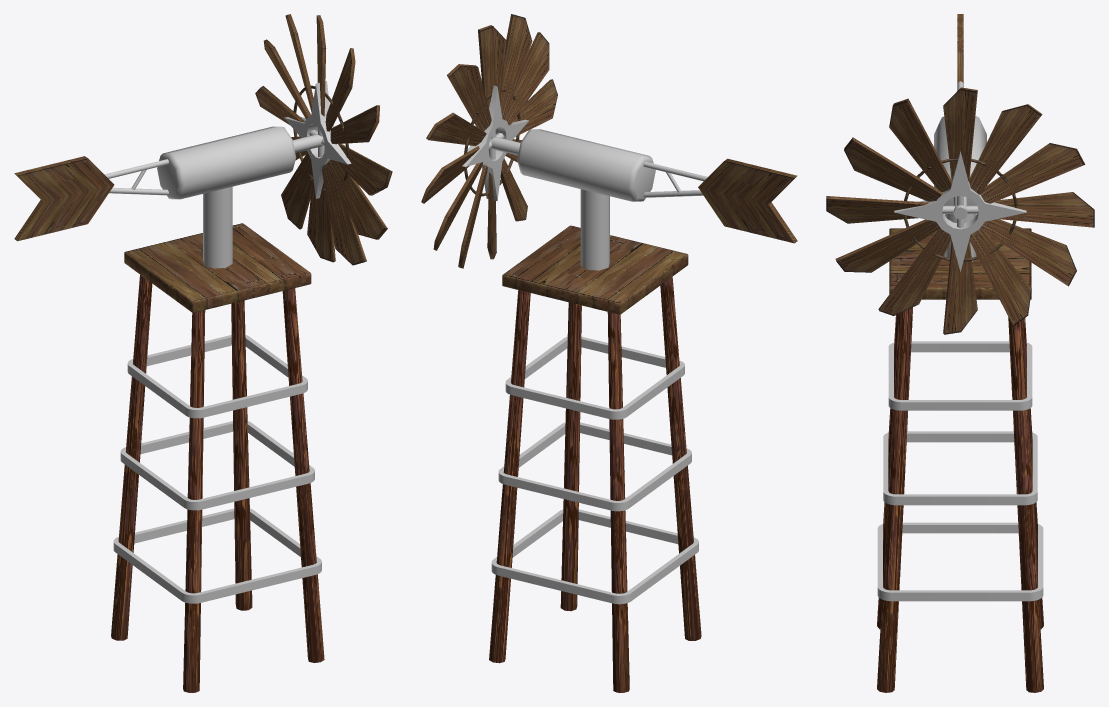
The model's file is windmill.fbx.
3 renders of one model, left to right at view 1: azimuth 30°, elevation 25°; view 2: azimuth 150°, elevation 25°; view 3: azimuth 270°, elevation 25°, orthographic. The views are drawn at different scales.
Visible parts, largest first — view 1: Cube, Cylinder, Cylinder_2_2, Cylinder_1_7, Cube_1, Cylinder_3, Cylinder_0, Sweep_2, Sweep_1, Sweep, Tube, Cube_1_8 (+10 smaller); view 2: Cube, Cylinder, Cylinder_3, Cylinder_0, Cube_1, Cylinder_2_2, Cylinder_1_7, Sweep_2, Sweep_1, Sweep, Tube, Cube_1_11 (+10 smaller); view 3: Cylinder_1_7, Cylinder_0, Sweep_2, Sweep_1, Sweep, Tube, Cube, Cube_1_2, Cube_1_4, Cube_1_1, Cube_1_5, Cube_1_3 (+12 smaller).
Boxes of the visible parts, bbox=[...] form: Cube: bbox=[124, 223, 311, 312]; Cylinder: bbox=[157, 126, 296, 268]; Cylinder_2_2: bbox=[183, 310, 205, 692]; Cylinder_1_7: bbox=[282, 288, 324, 662]; Cube_1: bbox=[14, 156, 114, 241]; Cylinder_3: bbox=[111, 275, 152, 640]; Cylinder_0: bbox=[231, 300, 252, 610]; Sweep_2: bbox=[113, 508, 321, 603]; Sweep_1: bbox=[120, 421, 314, 510]; Sweep: bbox=[127, 335, 307, 418]; Tube: bbox=[284, 81, 351, 198]; Cube_1_8: bbox=[327, 159, 387, 239]; Cube: bbox=[502, 225, 688, 314]; Cylinder: bbox=[517, 129, 655, 270]; Cylinder_3: bbox=[607, 312, 629, 692]; Cylinder_0: bbox=[489, 290, 530, 663]; Cube_1: bbox=[698, 158, 797, 243]; Cylinder_2_2: bbox=[660, 277, 701, 640]; Cylinder_1_7: bbox=[560, 302, 581, 611]; Sweep_2: bbox=[491, 509, 698, 604]; Sweep_1: bbox=[498, 422, 691, 511]; Sweep: bbox=[505, 336, 684, 419]; Tube: bbox=[462, 85, 528, 201]; Cube_1_11: bbox=[500, 14, 532, 119]; Cylinder_1_7: bbox=[877, 307, 912, 692]; Cylinder_0: bbox=[1008, 317, 1043, 692]; Sweep_2: bbox=[877, 522, 1043, 601]; Sweep_1: bbox=[883, 431, 1037, 505]; Sweep: bbox=[888, 341, 1032, 410]; Tube: bbox=[894, 151, 1026, 271]; Cube: bbox=[889, 228, 1031, 299]; Cube_1_2: bbox=[980, 143, 1085, 203]; Cube_1_4: bbox=[980, 219, 1076, 286]; Cube_1_1: bbox=[969, 104, 1042, 194]; Cube_1_5: bbox=[969, 229, 1031, 325]; Cube_1_3: bbox=[994, 192, 1094, 227].
Bounding box in the file's own units: 709 × 1301 × 508.
4 materials, 3 textured.
